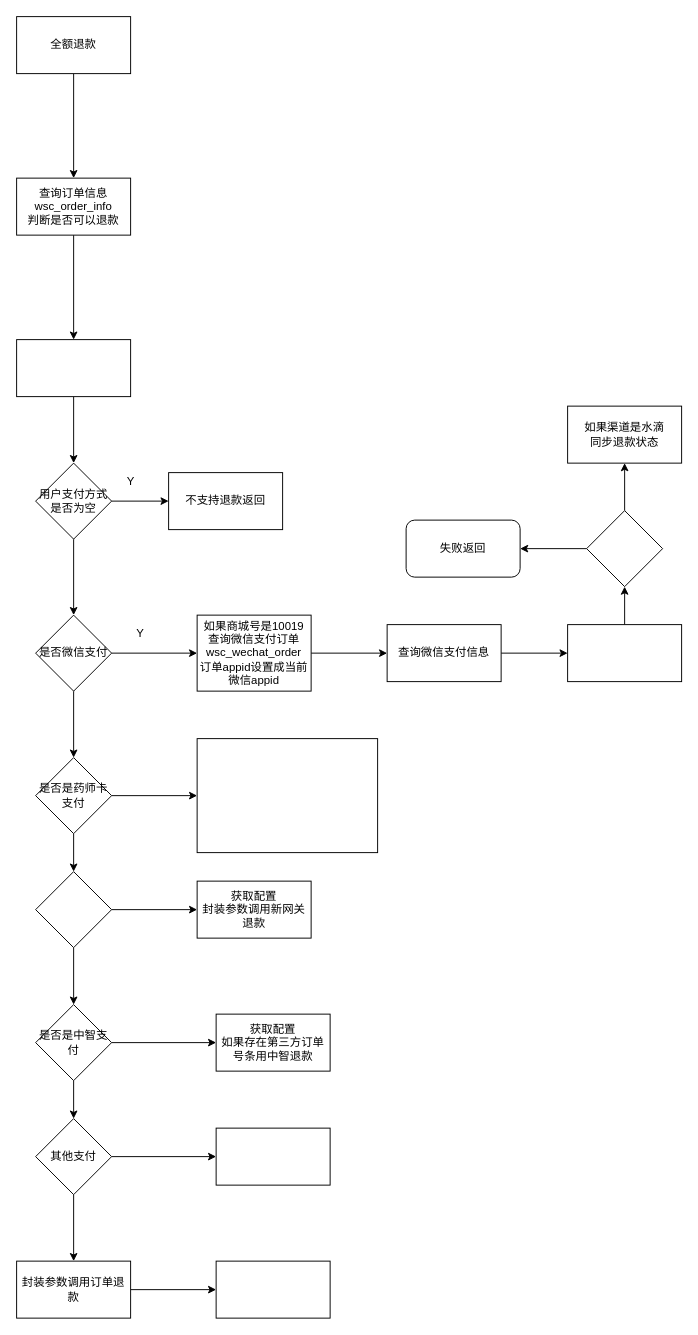
This 698x1335 diagram has some shape labels left out. The shapes that lost their labels are listed below. From the top down, each one's box as (x1, y1, x2, y2) in pixels, then its label:
(16, 339, 131, 397): 根据支付方式判断是用户支付和余额支付
(586, 510, 663, 587): 是否成功
(567, 624, 682, 682): 调用微信退款
(196, 738, 378, 853): 获取配置 如果网关预授权成功，确认金额为0的订单 如果是支付成功，调用退款接口
(35, 871, 112, 948): 新网关支付
(215, 1127, 330, 1185): 其他支付方式不处理
(215, 1260, 330, 1318): service,refundOrder 单独写
